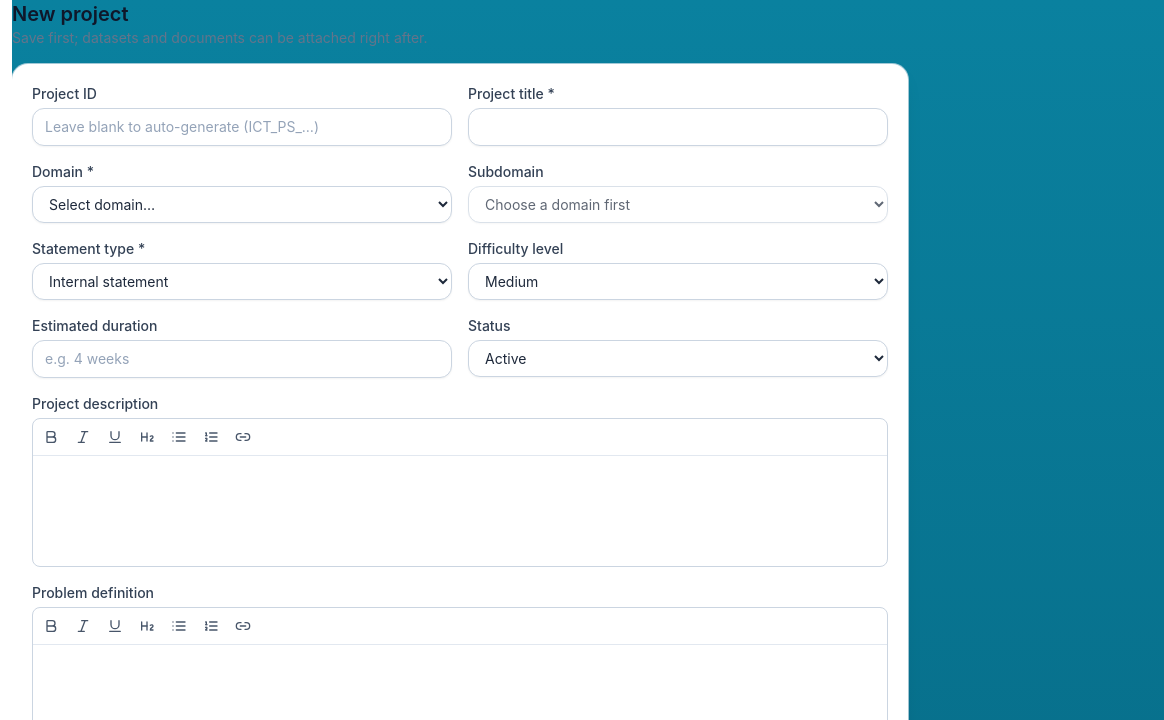
Test case: project shelf form › shows server validation errors per field
This screenshot has width=1164, height=720.
Type "PS-9" into the field labelled "Project ID" at coordinates (242, 127), box [32, 108, 452, 146]
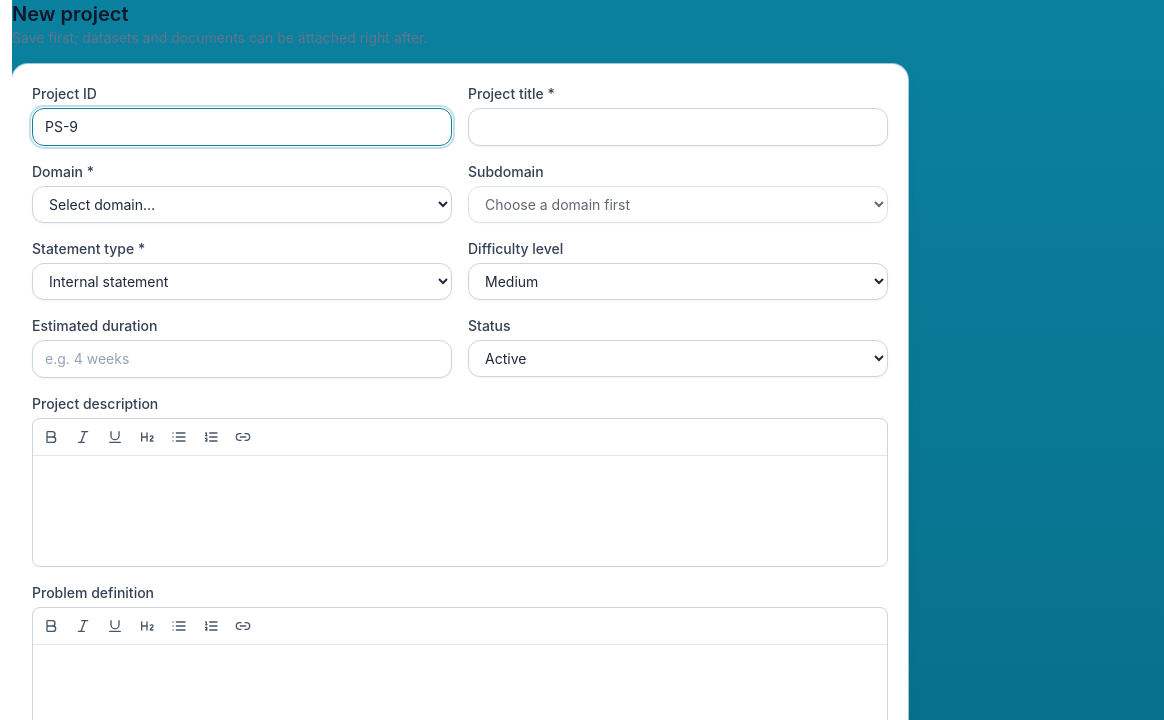
Type "Chatbot" into the field labelled "Project title *" at coordinates (678, 127), box [468, 108, 888, 146]
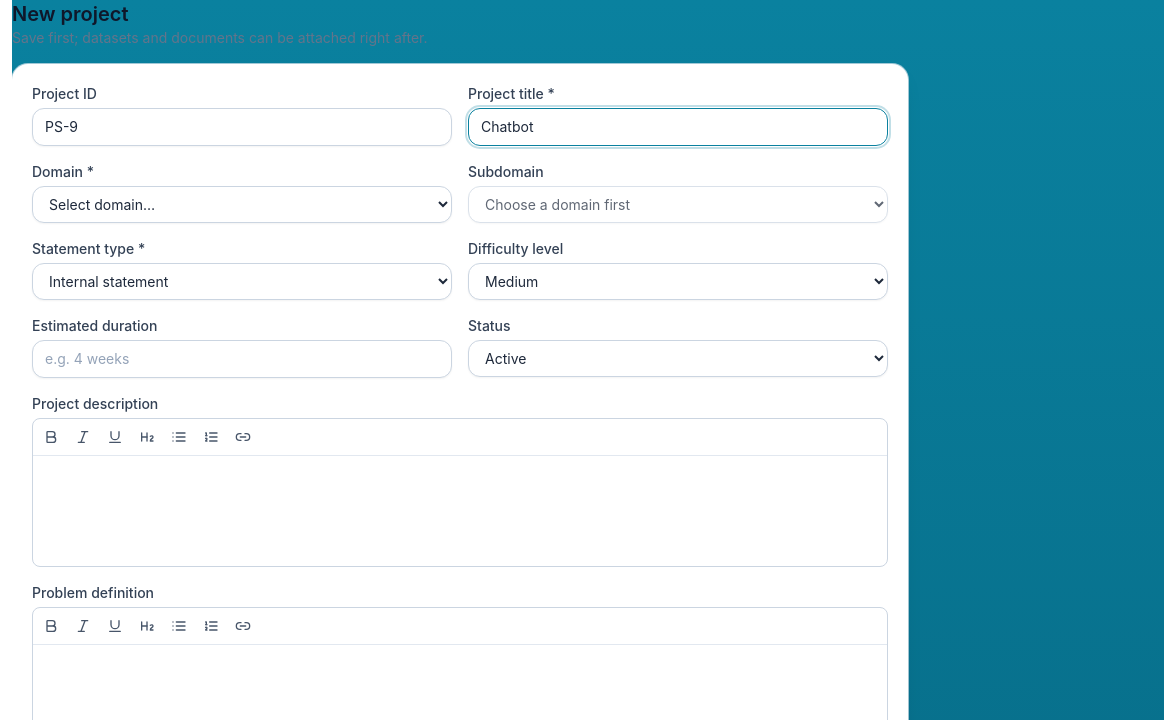
Select "AI & ML" in the dropdown labelled "Domain *" at coordinates (242, 204), box [32, 186, 452, 223]
(page scrolled)
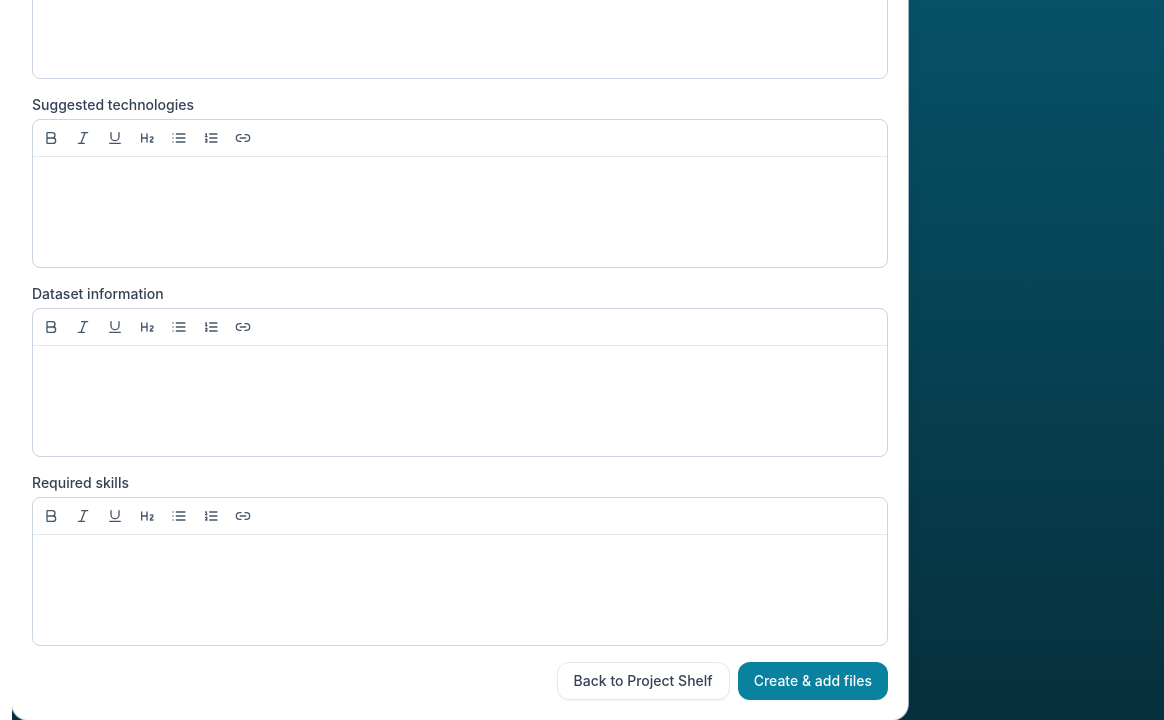
Click the button "Create & add files" at coordinates (813, 681), box [738, 662, 888, 700]
(page scrolled)
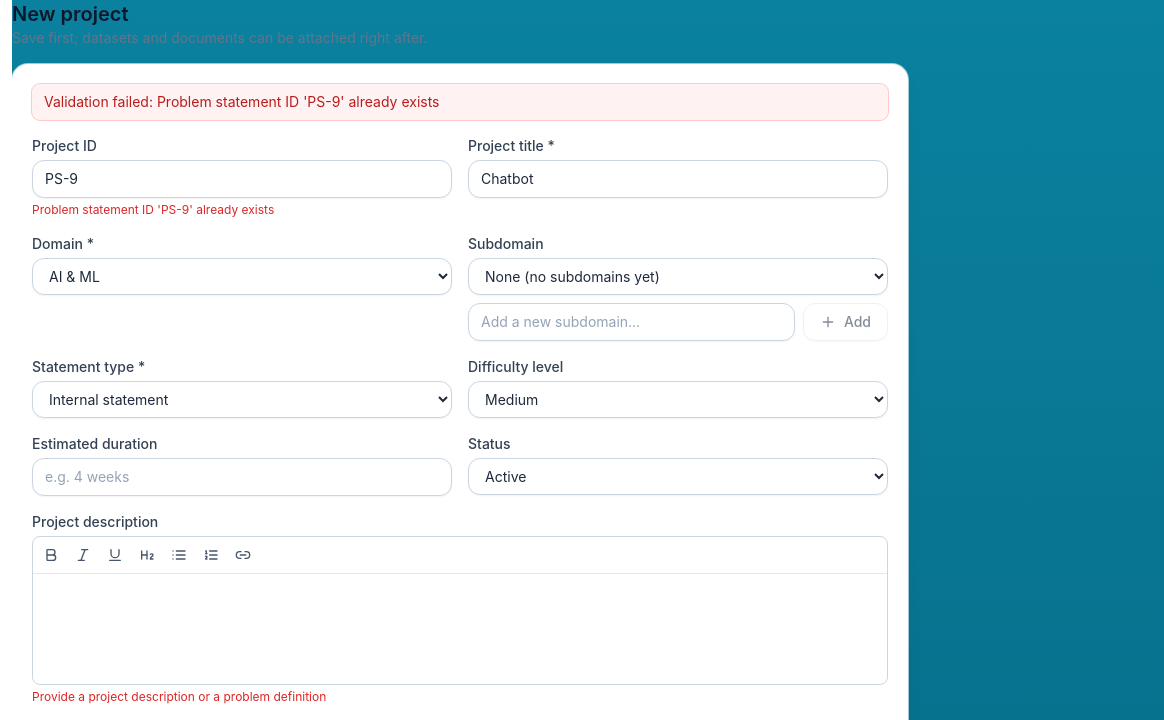
Expected: the text "Validation failed: Problem statement ID 'PS-9' already exists" is shown, [32, 84, 888, 120]
Expected: the text "Provide a project description or a problem definition" is shown, [32, 689, 326, 704]
Expected: the message shows "Validation failed", [44, 93, 440, 110]
